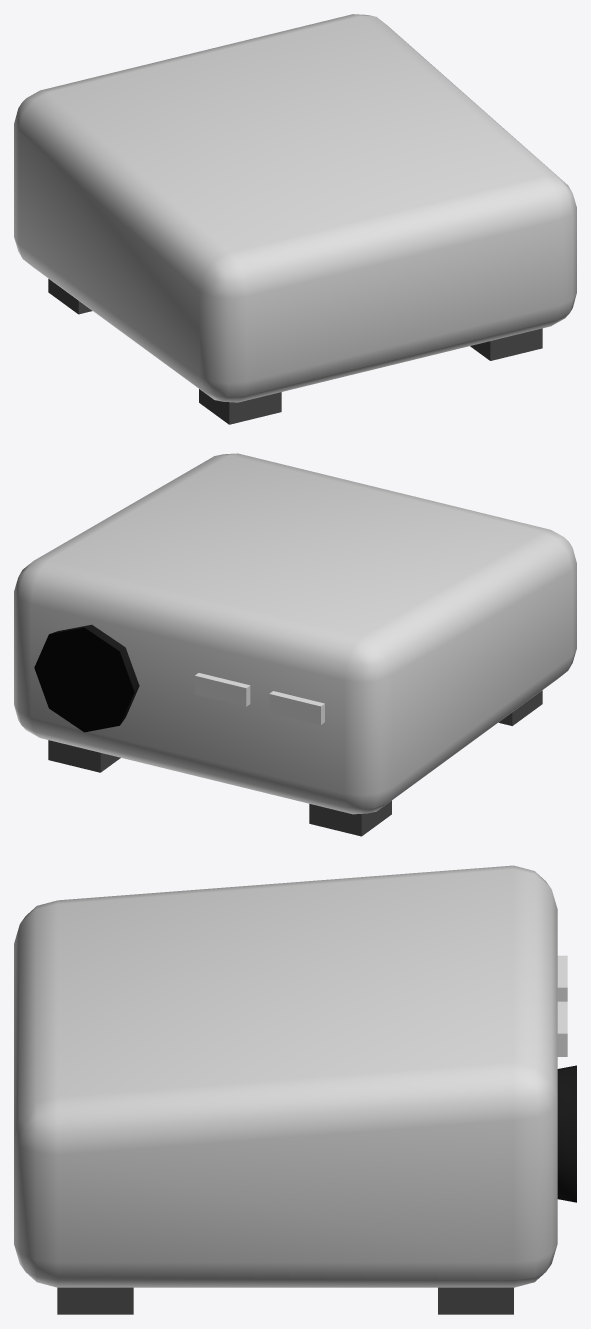
File: Projector.fbx
The picture shows the model from 3 angles, top to bottom: view 1: azimuth 30°, elevation 25°; view 2: azimuth 150°, elevation 25°; view 3: azimuth 270°, elevation 25°; orthographic projection. The views are drawn at different scales.
Parts seen in each view (by area): view 1: Projector; view 2: Projector; view 3: Projector.
Part boxes in pixels (<box>): Projector: <box>14,14,576,424</box>; Projector: <box>14,453,576,836</box>; Projector: <box>14,865,576,1314</box>.
Size of the model in its own units: 700 by 358 by 725.
